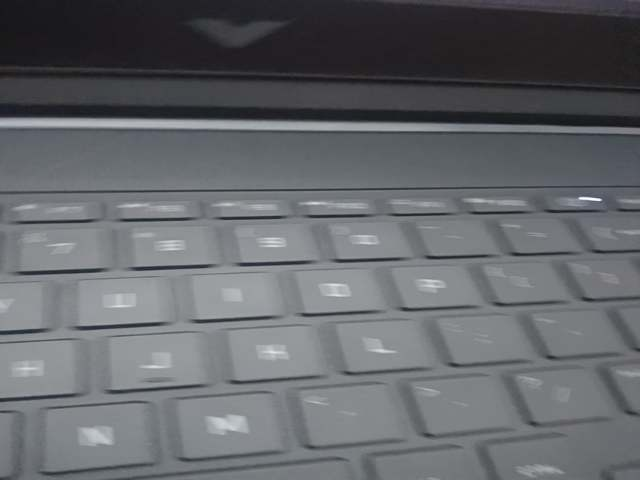pothole: (105, 403, 314, 480), (536, 403, 640, 480)
